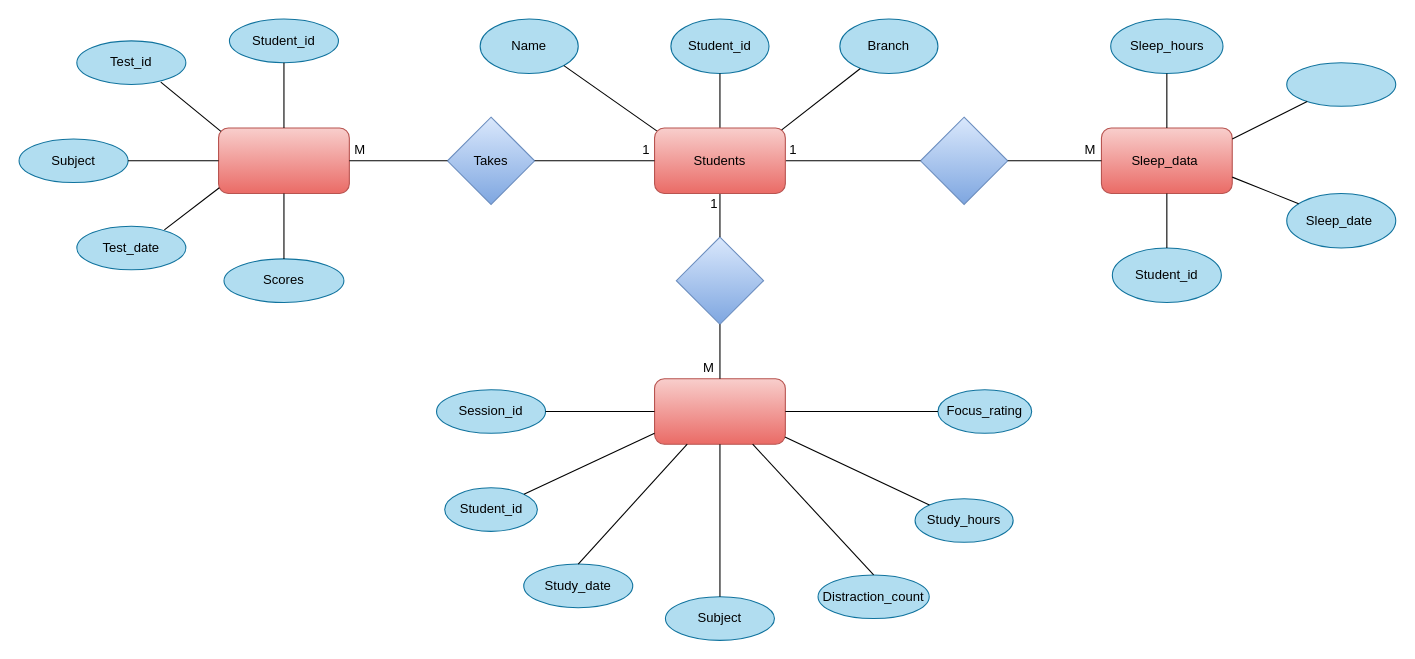
Some shapes in this 1415 by 659 pixel diagram are drawn without their labels. Each missing label, with the centre of its shape:
Logs: the point at 963,160
Records: the point at 719,280
Sleep_id: the point at 1341,84
Study_Sessions: the point at 719,411
Test_scores: the point at 283,160
